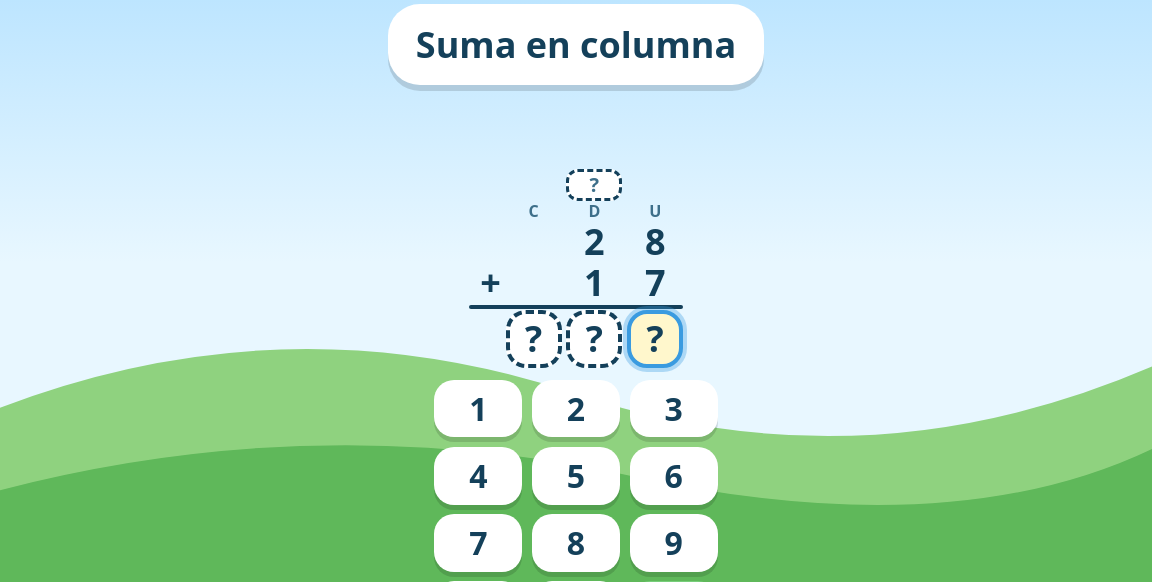
Test case: Ejercicio en columna: sumas llevando › la llevada es opcional: el resultado se comprueba sin escribirla
Click the button "5" at (576, 476), box x1=532 y1=447 x2=620 y2=504
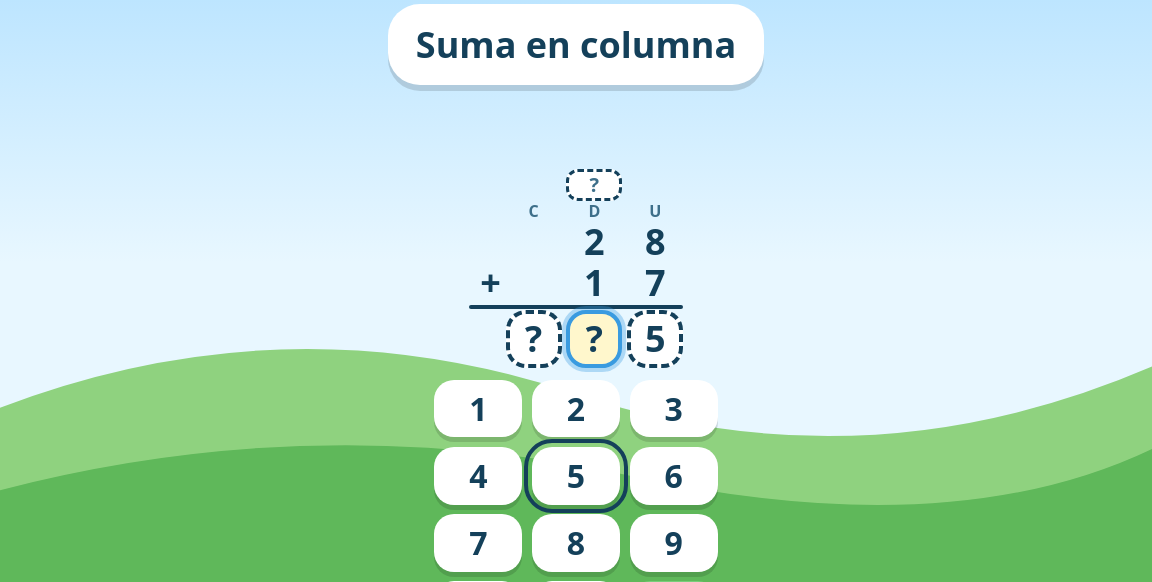
Click the button "4" at (478, 476), box x1=434 y1=447 x2=522 y2=504
(page scrolled)
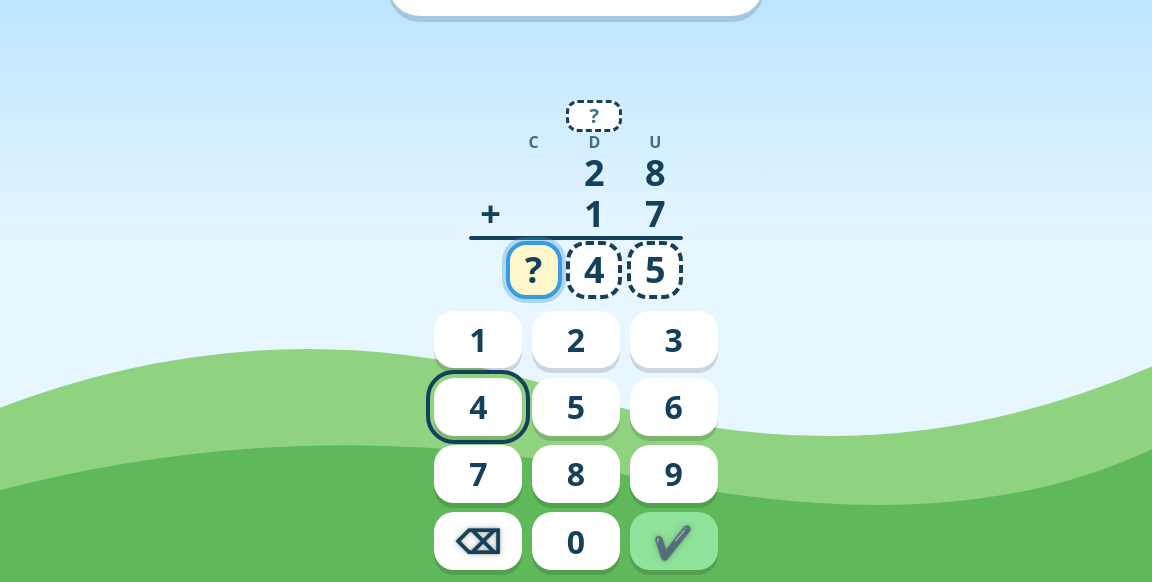
Click the button named "Comprobar" at (674, 541), box x1=630 y1=512 x2=718 y2=570
(page scrolled)
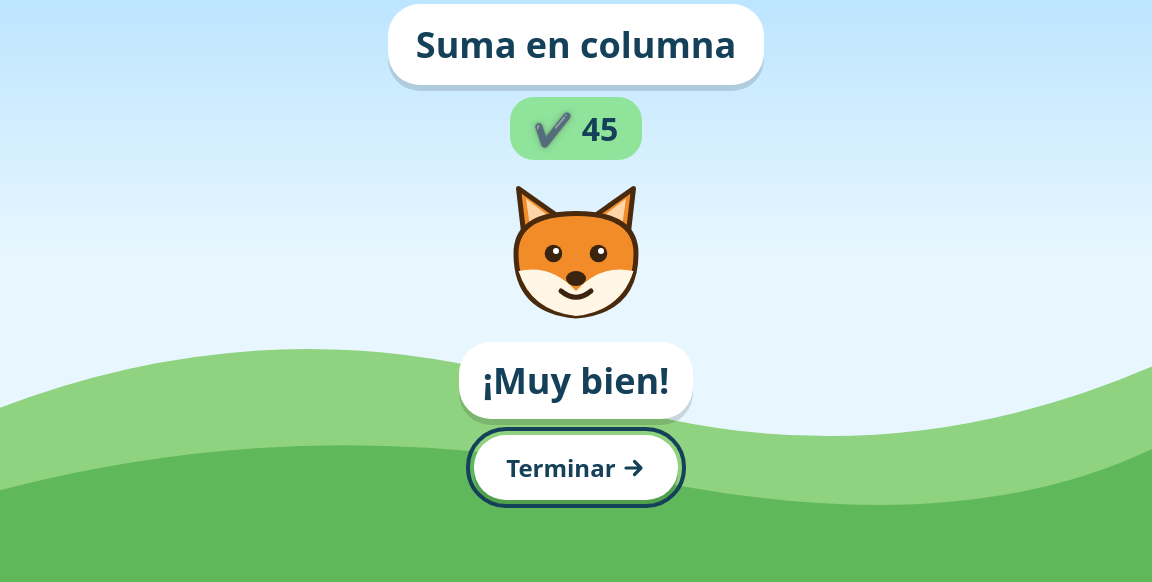
Now the text "¡Muy bien!" is shown, box x1=459 y1=342 x2=693 y2=419
